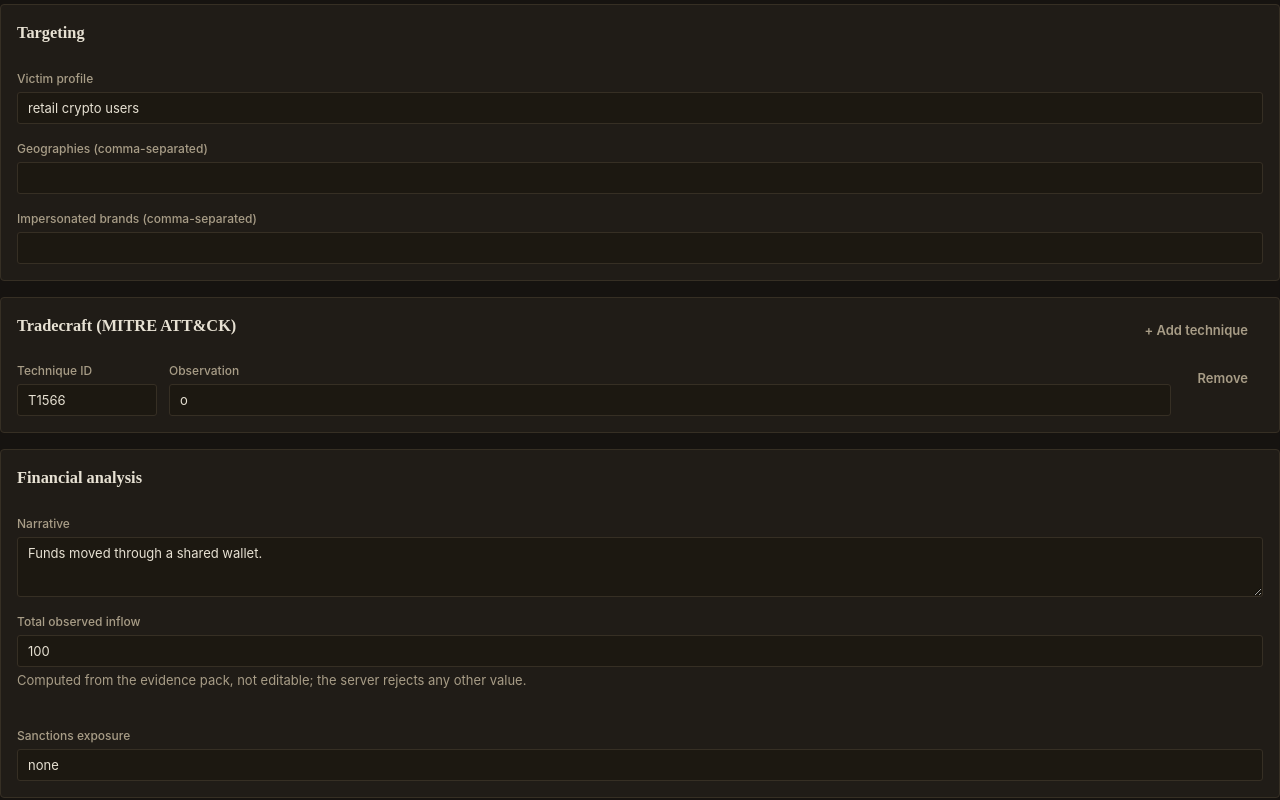
Test case: DraftEditForm › rejects an unknown ATT&CK technique id client-side, before calling onSubmit
The image size is (1280, 800).
(page scrolled)
Replace the text in the field with test id "ttp-technique-id-0" with "T9999" at x=87, y=400, box [17, 384, 157, 416]
(page scrolled)
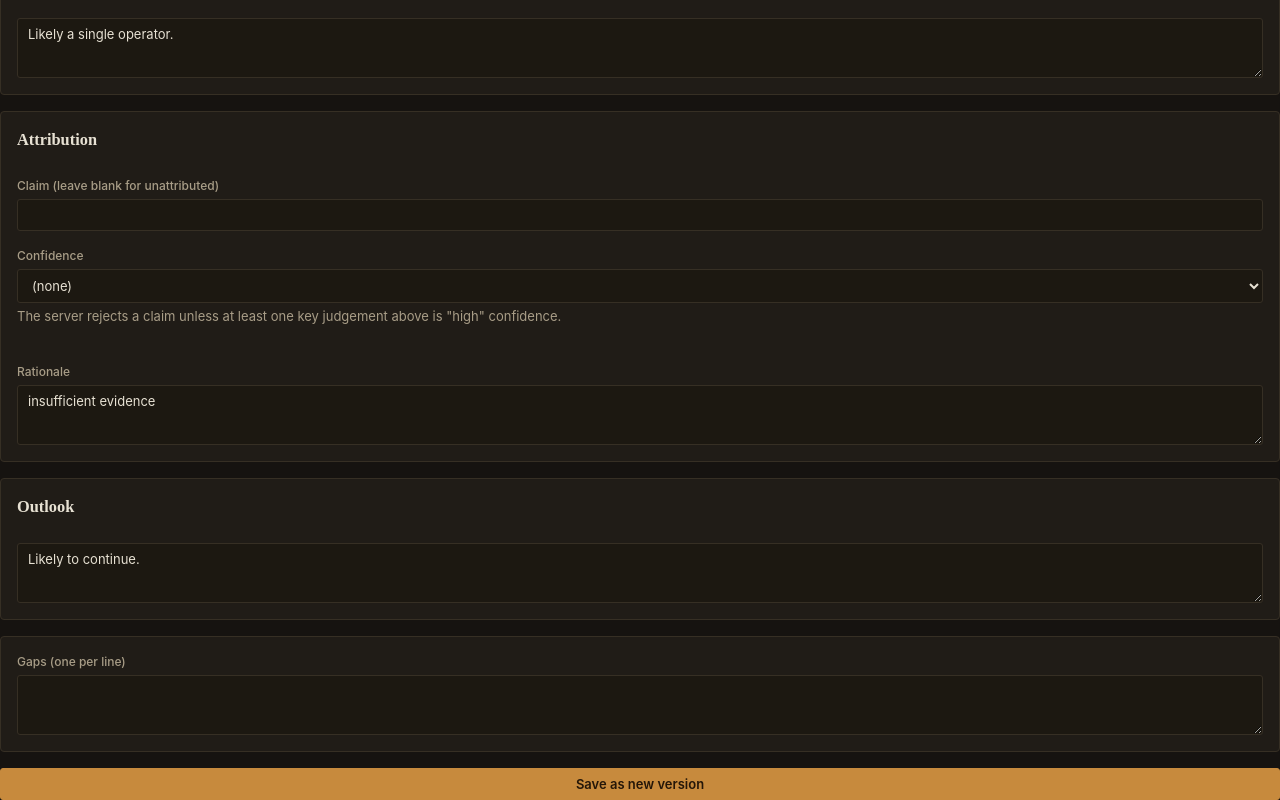
Click the button with test id "draft-submit" at x=640, y=784, box [0, 768, 1279, 799]
(page scrolled)
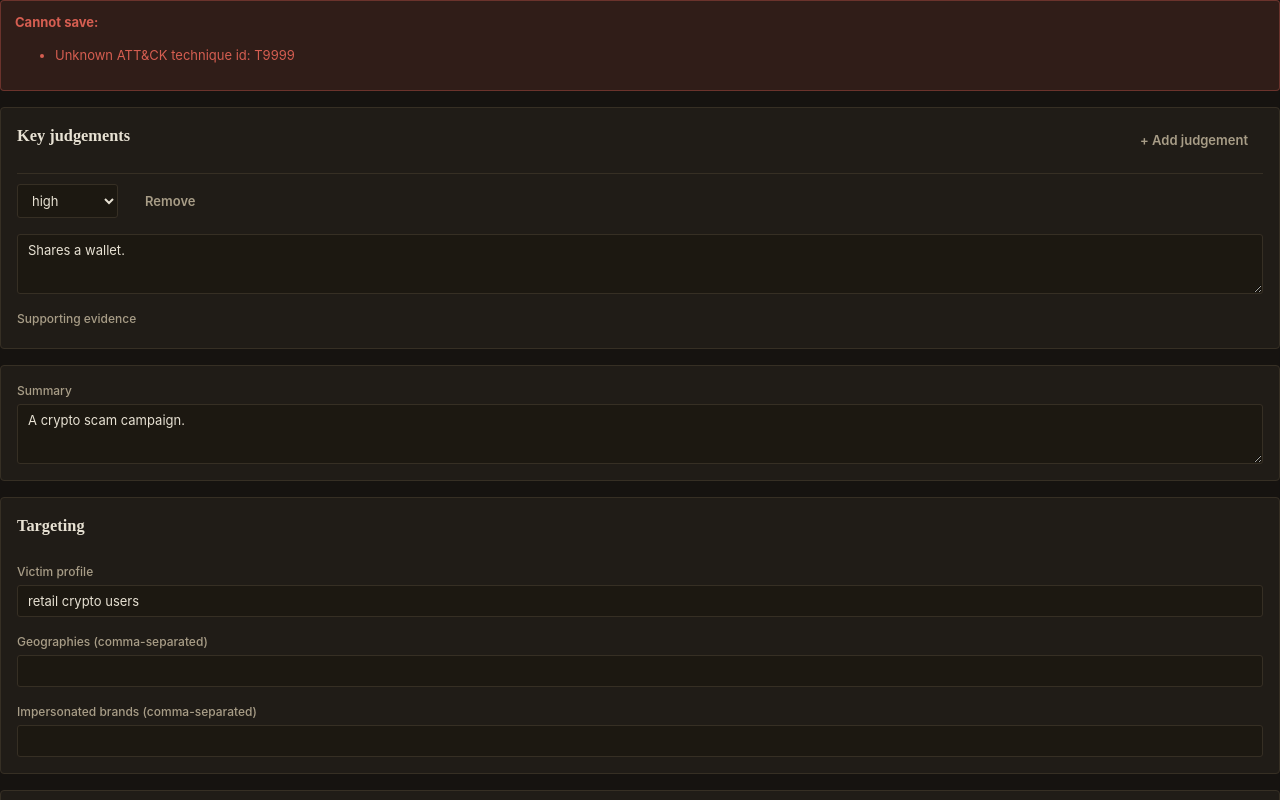
Expected: the element with test id "draft-form-errors" shows "Unknown ATT&CK technique id: T9999", [55, 46, 295, 62]
